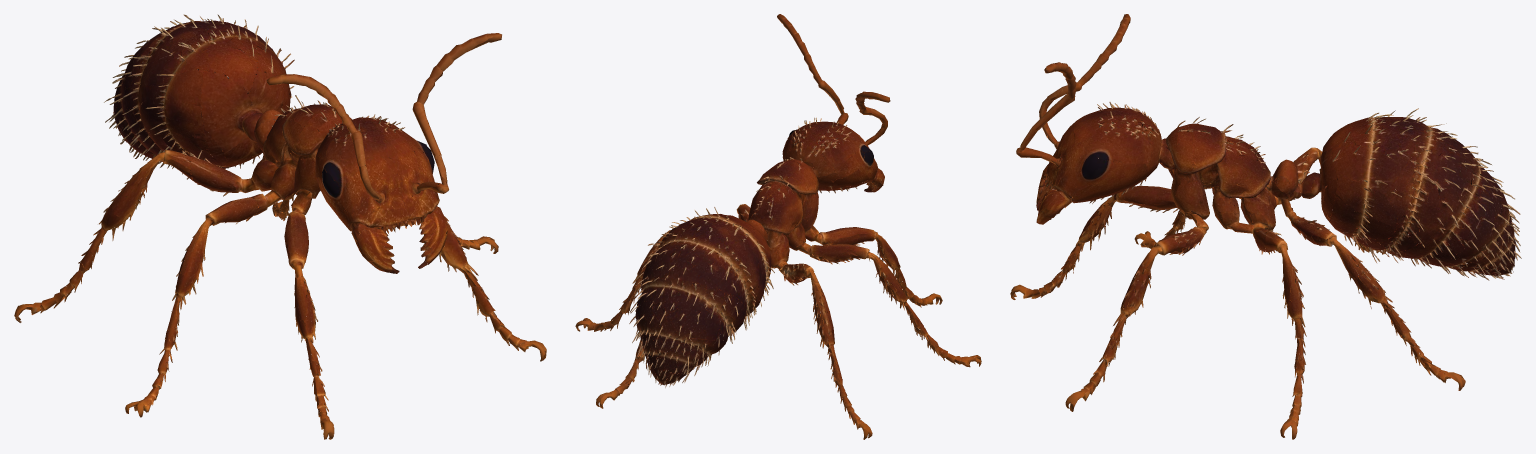
File: ant.glb
3 views of the same model, side by side, from view 1: azimuth 30°, elevation 25°; view 2: azimuth 150°, elevation 25°; view 3: azimuth 270°, elevation 25° (orthographic). The views are drawn at different scales.
Visible parts, largest first — view 1: Mesh_0; view 2: Mesh_0; view 3: Mesh_0.
Boxes of the visible parts, x1=… form: Mesh_0: x1=14, y1=14, x2=546, y2=439; Mesh_0: x1=575, y1=14, x2=981, y2=439; Mesh_0: x1=1010, y1=14, x2=1521, y2=439.
Size of the model in its own units: 1.74 by 1.3 by 1.89.
Materials: 1 (1 with a texture image).
